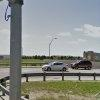Car: (39, 57, 100, 74)
